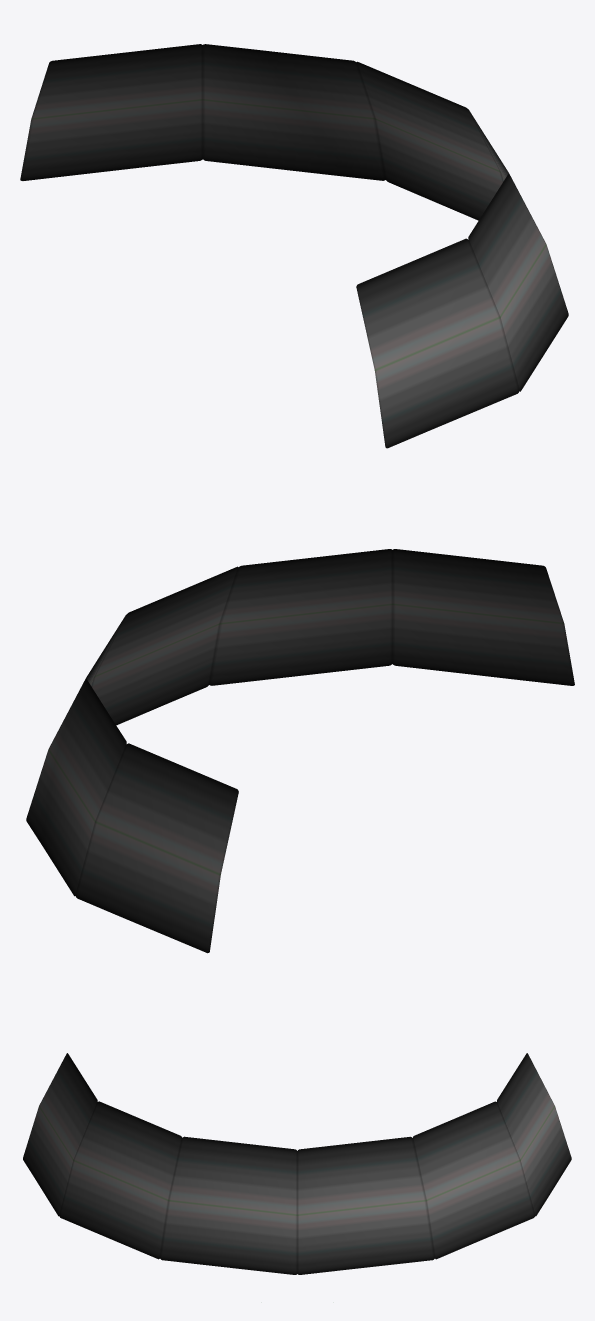
3 views of the same model, one above another, from view 1: azimuth 30°, elevation 25°; view 2: azimuth 150°, elevation 25°; view 3: azimuth 270°, elevation 25° (orthographic). The views are drawn at different scales.
Parts seen in each view (by area): view 1: T1L8M002_6; view 2: T1L8M002_6; view 3: T1L8M002_6.
Boxes of the visible parts, left/top/right/bottom form: T1L8M002_6: left=20, top=44, right=568, bottom=448; T1L8M002_6: left=26, top=549, right=574, bottom=953; T1L8M002_6: left=23, top=1053, right=571, bottom=1274.
Bounding box in the file's own units: 0.2881 × 0.1826 × 0.5762.
